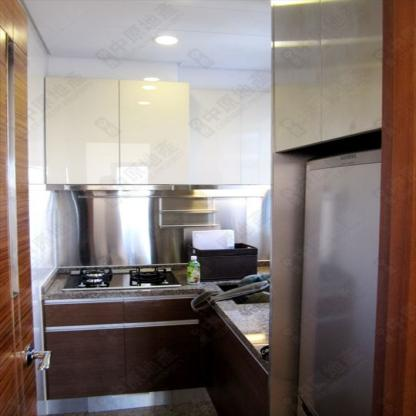Cupboard: (45, 298, 268, 415), (47, 77, 271, 186)
Fridge: (296, 149, 384, 415)
Stove: (61, 267, 180, 290)
